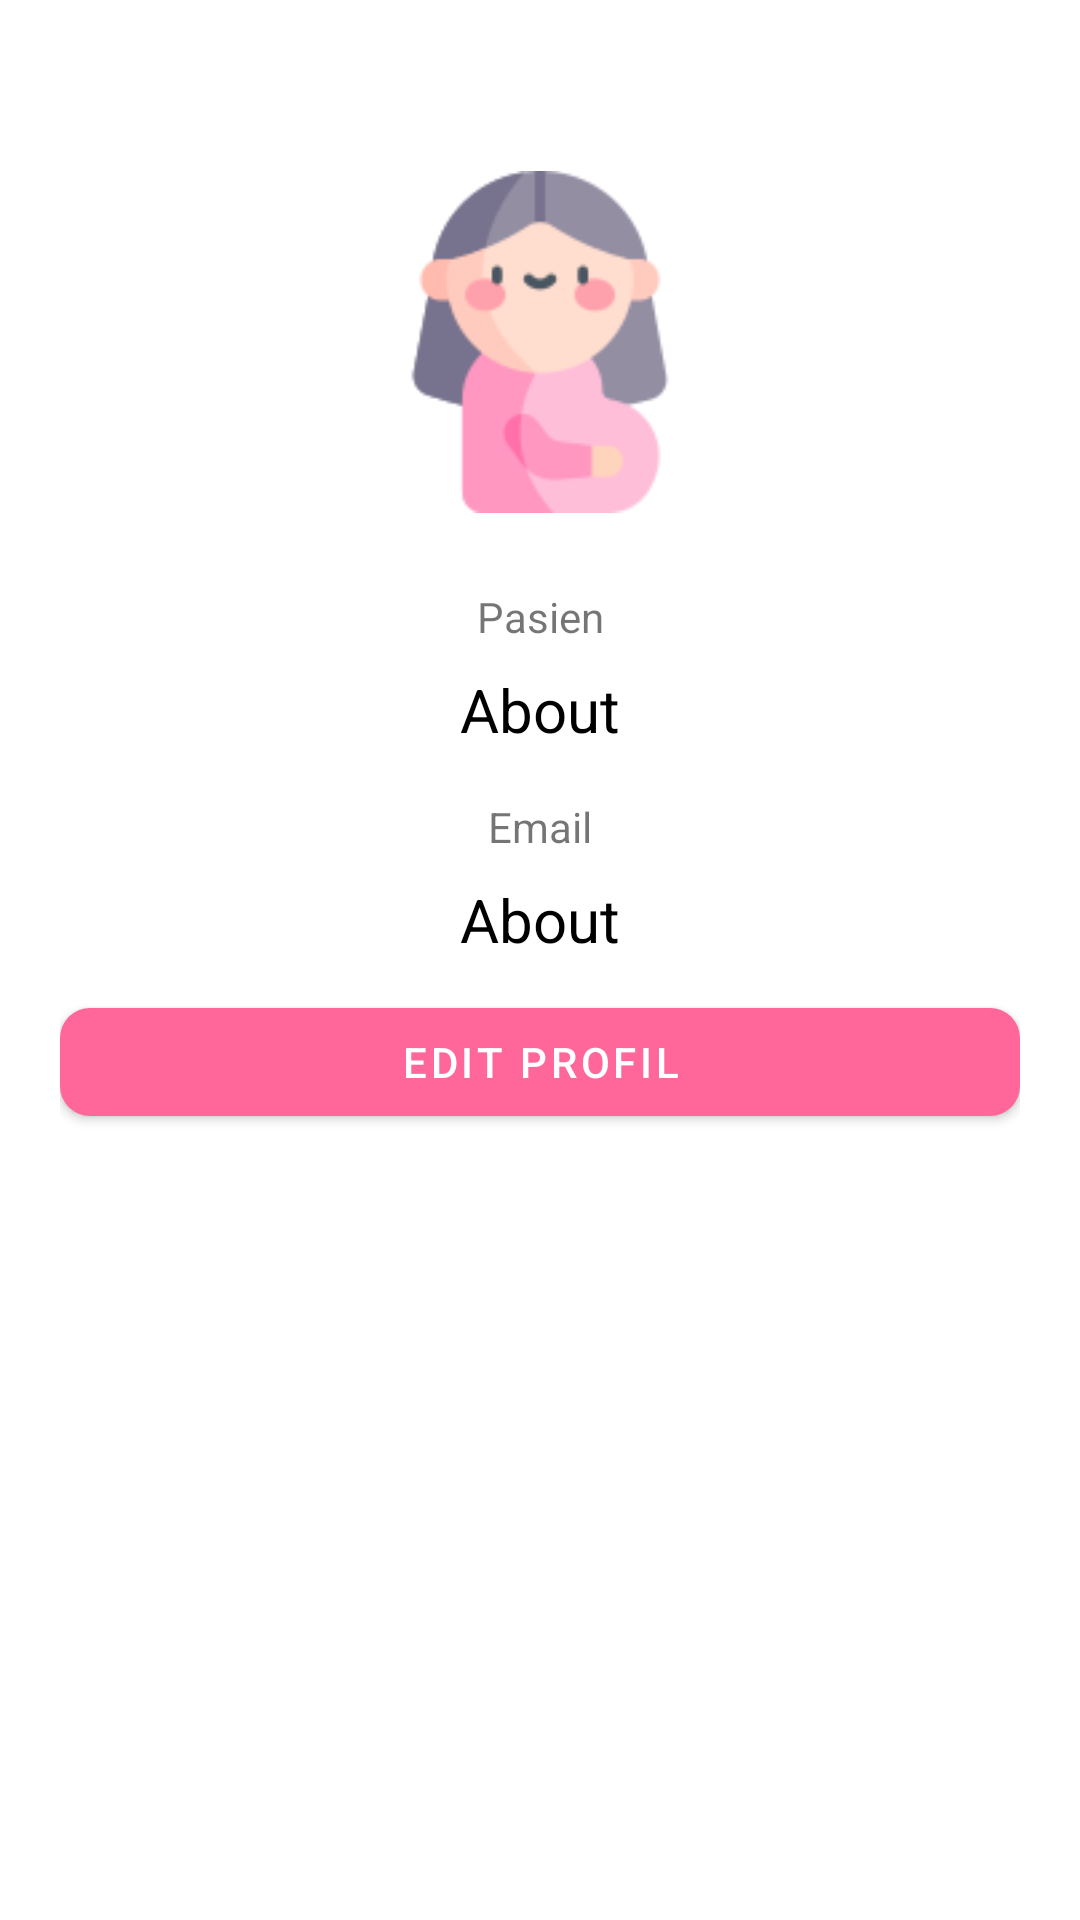

Named icons in this screenshot (1080px×1920px) and their centers, [x,y]:
pregnant: [539,342]
